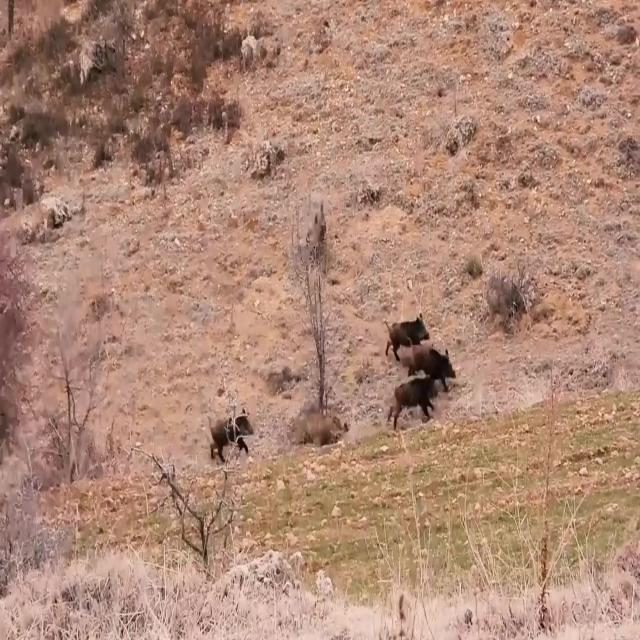pig: (193, 389, 264, 466), (389, 375, 448, 441), (384, 308, 434, 368), (408, 341, 468, 386)
